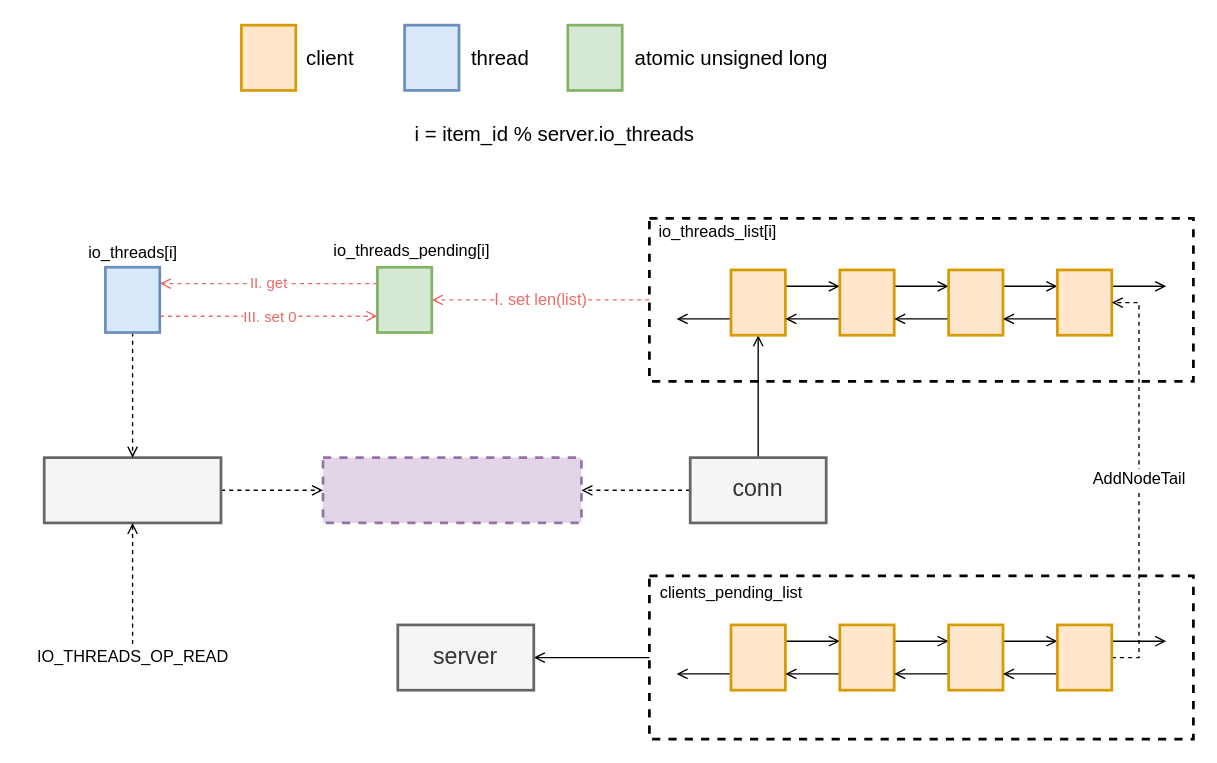
This 1217x763 diagram has some shape labels left out. The shapes that lost their labels are listed below. From the top down, each one's centre as x and y in pixels, then its label:
At (132,490): "io_threads_op".
At (451,490): "readQueryFromClient".
